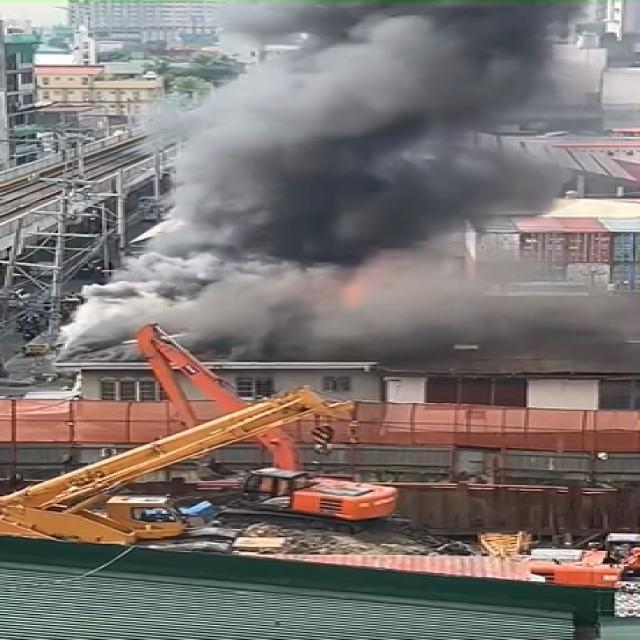Smoke: (78, 0, 609, 358)
